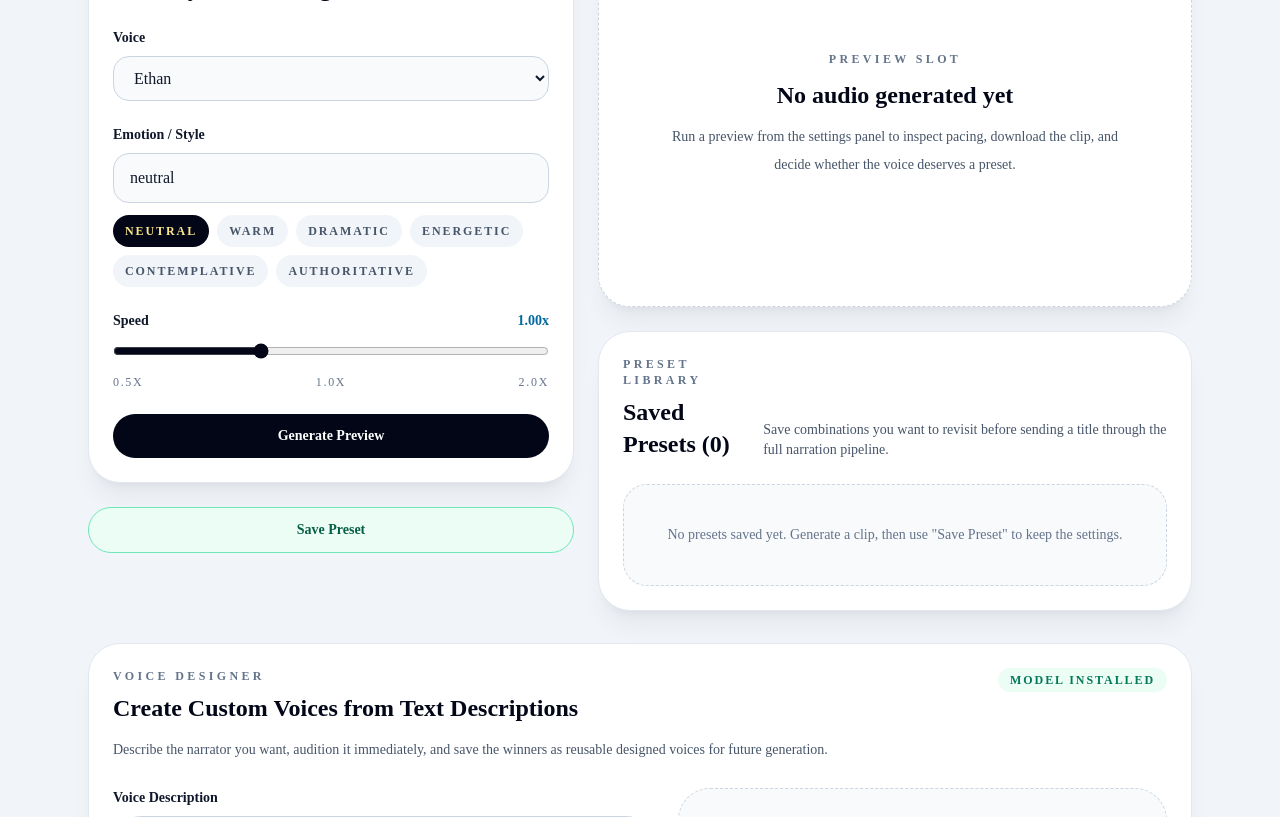
Scenario: VoiceLab page › shows a reconnect message when the preview request cannot reach the server
(page scrolled)
What coordinates should you click on to do the following:
click the button "Generate Preview"
I would click on:
 (331, 436)
Its box is [113,414,549,458].
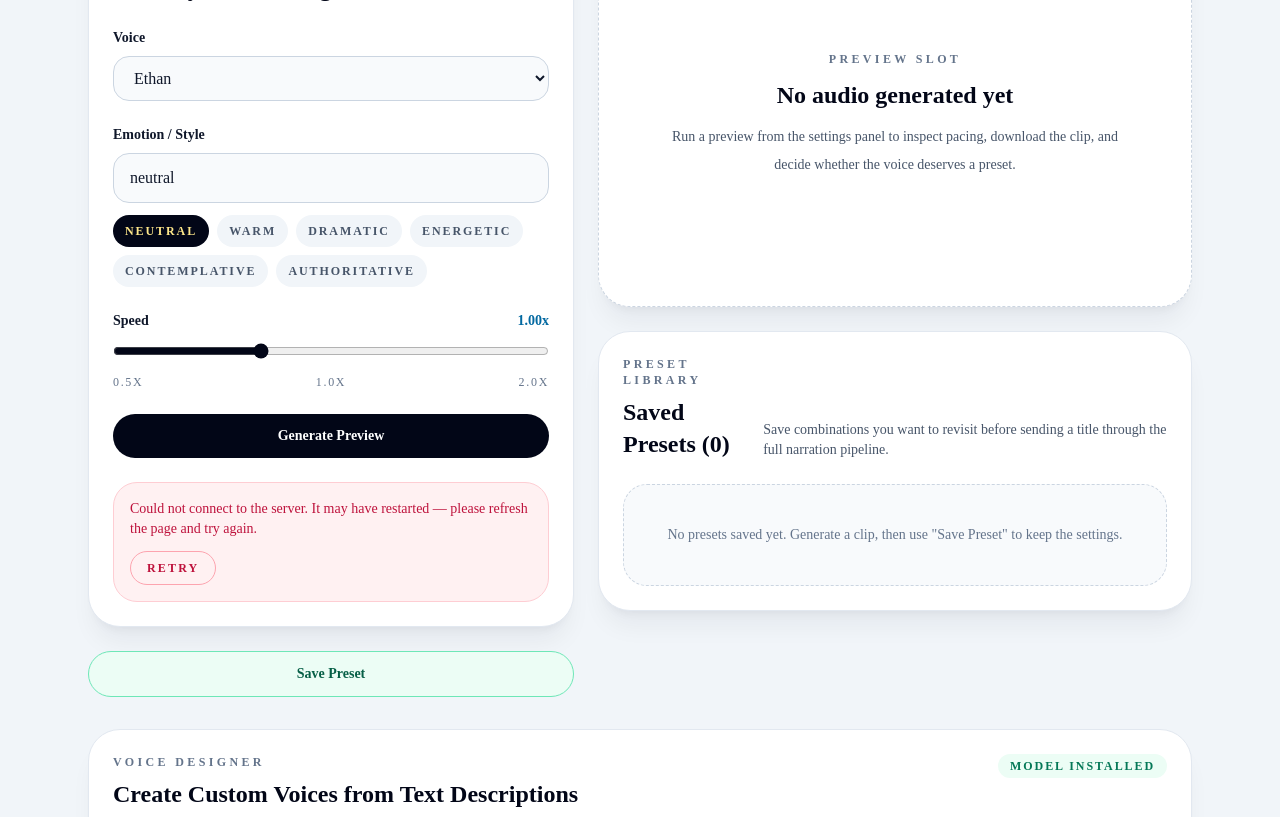
Result: the text "Could not connect to the server. It may have restarted — please refresh the page and try again." is shown at [130,501,528,536]
